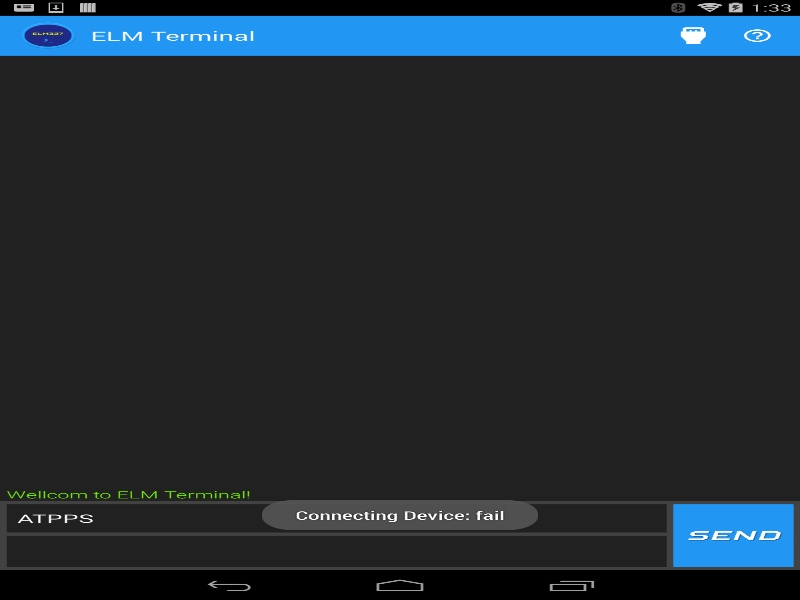Button: (673, 504, 794, 566), (10, 18, 85, 53)
Input: (6, 535, 666, 566)
